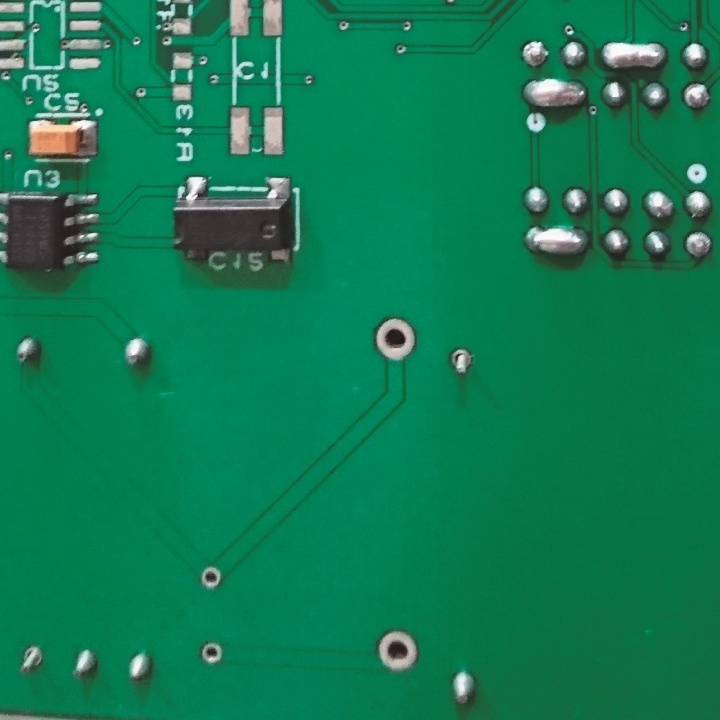F: (375, 626, 421, 678), (371, 317, 417, 363), (447, 345, 474, 382), (519, 38, 551, 69), (682, 80, 711, 114), (16, 644, 44, 679), (682, 232, 714, 261), (199, 639, 225, 668), (198, 565, 223, 592)
P: (524, 223, 591, 264), (521, 75, 587, 115), (599, 39, 667, 74)
